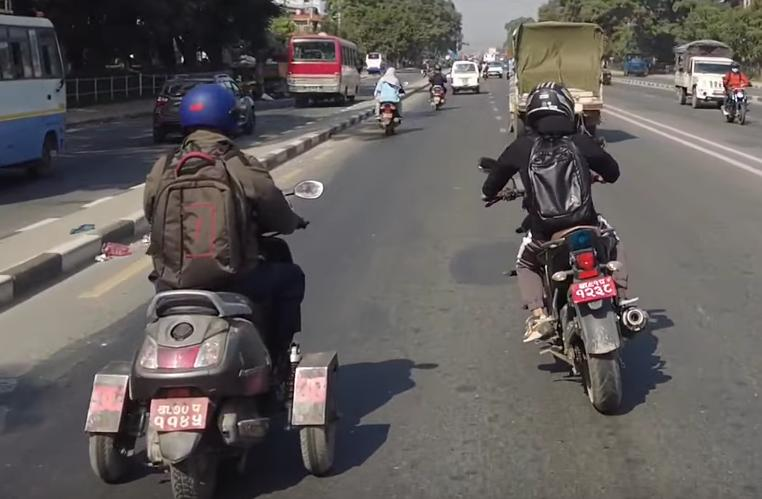bike: (473, 134, 658, 418), (718, 86, 754, 126)
